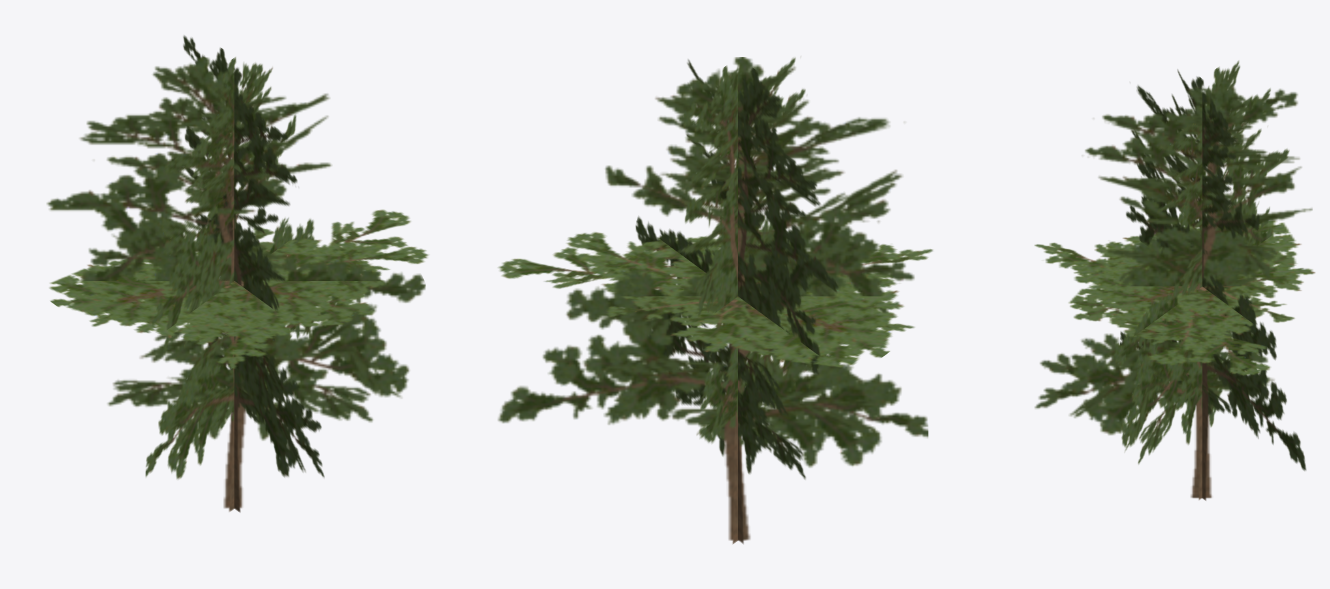
File: pine_pine_small_2_billboard.gltf
3 renders of one model, left to right at view 1: azimuth 30°, elevation 25°; view 2: azimuth 150°, elevation 25°; view 3: azimuth 270°, elevation 25°, orthographic. The views are drawn at different scales.
Parts seen in each view (by area): view 1: Pine_small_2_Billboard_LOD3_Pine_small_2_Billboard_Mat_0; view 2: Pine_small_2_Billboard_LOD3_Pine_small_2_Billboard_Mat_0; view 3: Pine_small_2_Billboard_LOD3_Pine_small_2_Billboard_Mat_0.
Part boxes in pixels (left/top/right/bottom): Pine_small_2_Billboard_LOD3_Pine_small_2_Billboard_Mat_0: left=47, top=35, right=428, bottom=512; Pine_small_2_Billboard_LOD3_Pine_small_2_Billboard_Mat_0: left=498, top=57, right=933, bottom=543; Pine_small_2_Billboard_LOD3_Pine_small_2_Billboard_Mat_0: left=1034, top=60, right=1315, bottom=500.
Bounding box in the file's own units: 3.32 × 4 × 2.43.
1 material, 1 textured.
